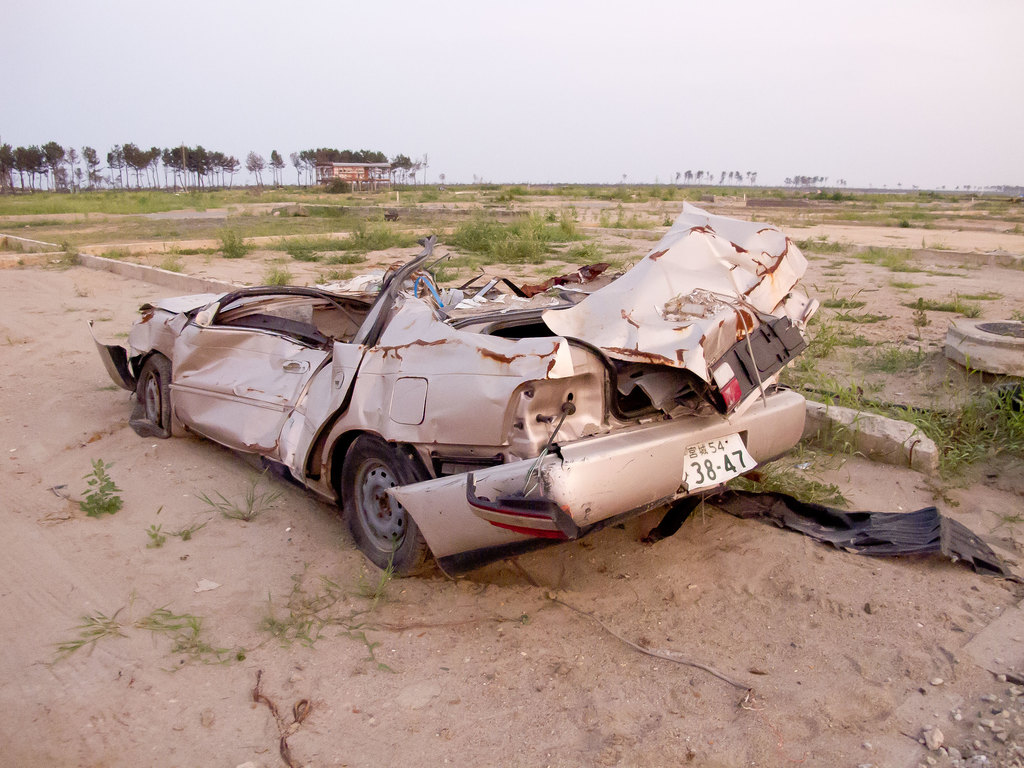Car: (123, 236, 807, 594)
